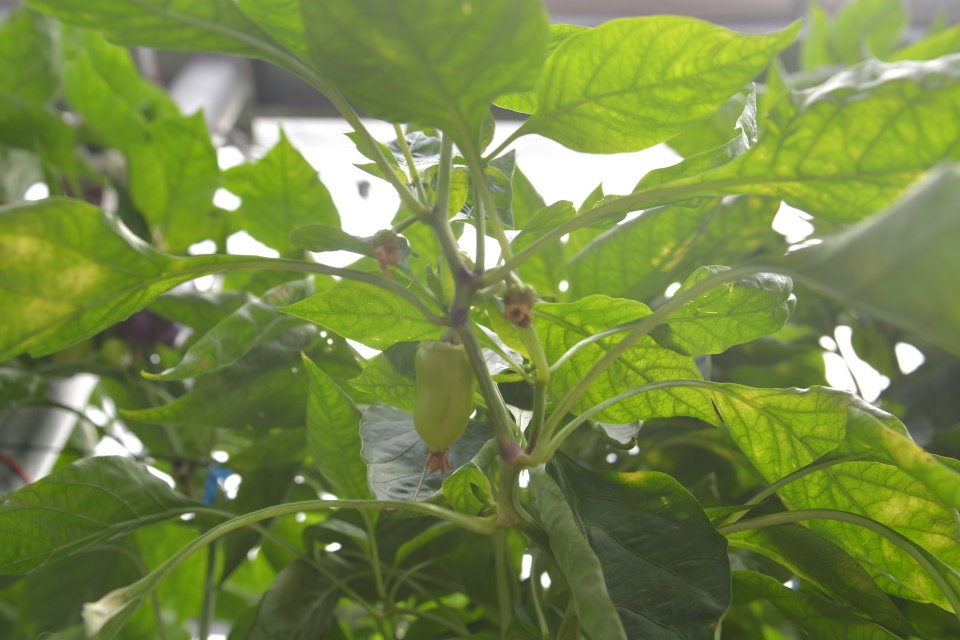immature: (412, 337, 477, 477)
